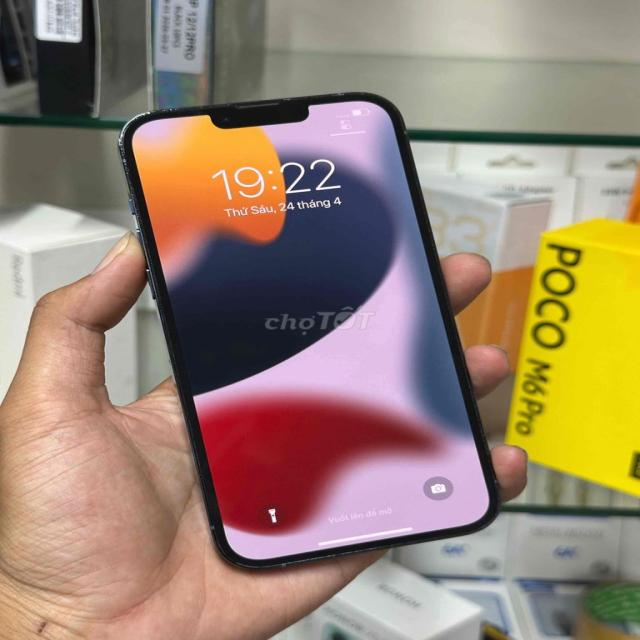scratch: (117, 92, 200, 223), (210, 535, 460, 573), (258, 86, 392, 115)
